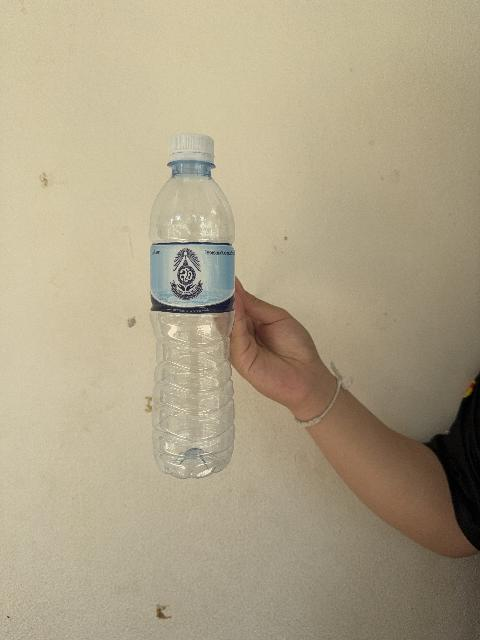bottle: (150, 134, 234, 477)
